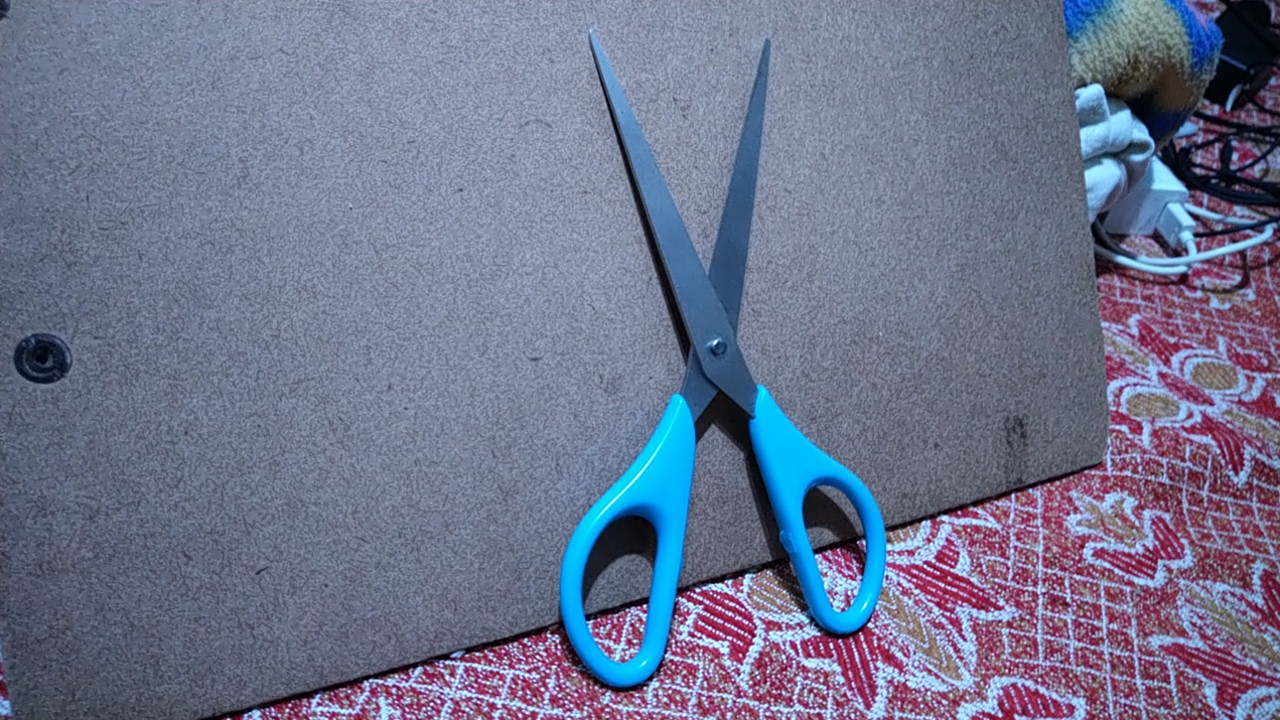scissor: (539, 10, 900, 701)
